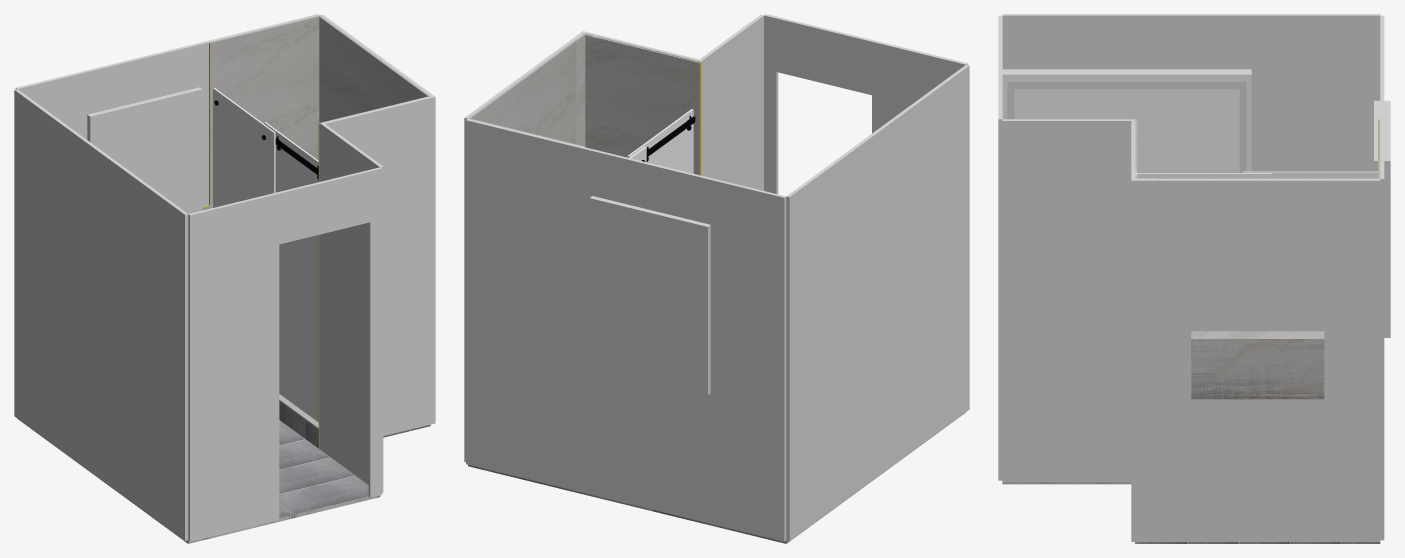
The picture shows the model from 3 angles, left to right: view 1: azimuth 30°, elevation 25°; view 2: azimuth 150°, elevation 25°; view 3: azimuth 270°, elevation 25°; orthographic projection. The views are drawn at different scales.
Parts seen in each view (by area): view 1: Vanity Wall, Door Wall, Shower Head Wall, Towel Wall, Window, Window Wall, Wall Tile.022, Shower Door Sliding, Shower Door Fixed, Room Floor, Wall Tile.027, Wall Tile.021 (+4 smaller); view 2: Window Wall, Vanity Wall, Window, Door Wall, Wall Tile.026, Towel Wall, Wall Tile.027, Wall Tile.009, Shower Door Sliding, Wall Tile.025, Shower Wall, Room Floor (+1 smaller); view 3: Shower Wall, Towel Wall, Vanity Wall, Mirror Front, Soap Box, Soap Box Wall Tile.031, Mirror Light, Window Wall, Door Wall, Shower Head Wall, Window, Mirror Box (+3 smaller).
Boxes of the visible parts, x1,y1,x2,y2 form: Vanity Wall: [14, 89, 188, 541]; Door Wall: [188, 167, 381, 541]; Shower Head Wall: [320, 95, 435, 435]; Towel Wall: [320, 122, 383, 493]; Window: [87, 87, 202, 213]; Window Wall: [15, 14, 319, 206]; Wall Tile.022: [209, 15, 320, 124]; Shower Door Sliding: [264, 122, 318, 422]; Shower Door Fixed: [213, 88, 275, 207]; Room Floor: [18, 419, 380, 543]; Wall Tile.027: [329, 24, 420, 106]; Wall Tile.021: [210, 98, 319, 205]; Window Wall: [466, 119, 786, 541]; Vanity Wall: [786, 64, 969, 541]; Window: [589, 196, 710, 394]; Door Wall: [764, 14, 968, 194]; Wall Tile.026: [585, 34, 700, 148]; Towel Wall: [698, 14, 763, 190]; Wall Tile.027: [480, 40, 576, 129]; Wall Tile.009: [515, 84, 576, 143]; Shower Door Sliding: [627, 109, 693, 173]; Wall Tile.025: [585, 121, 699, 175]; Shower Wall: [464, 32, 583, 461]; Room Floor: [584, 412, 965, 543]; Shower Wall: [1135, 179, 1380, 541]; Towel Wall: [1002, 119, 1135, 482]; Vanity Wall: [1002, 14, 1380, 171]; Mirror Front: [1002, 74, 1251, 173]; Soap Box: [1191, 331, 1324, 399]; Soap Box Wall Tile.031: [1191, 339, 1324, 399]; Mirror Light: [1007, 82, 1246, 173]; Window Wall: [1380, 15, 1384, 540]; Door Wall: [998, 15, 1002, 480]; Shower Head Wall: [1131, 121, 1135, 541]; Window: [1374, 100, 1390, 337]; Mirror Box: [1002, 69, 1251, 74].
Bounding box in the file's own units: 2.53 × 2.46 × 2.4.
Materials: 10 (4 with a texture image).
